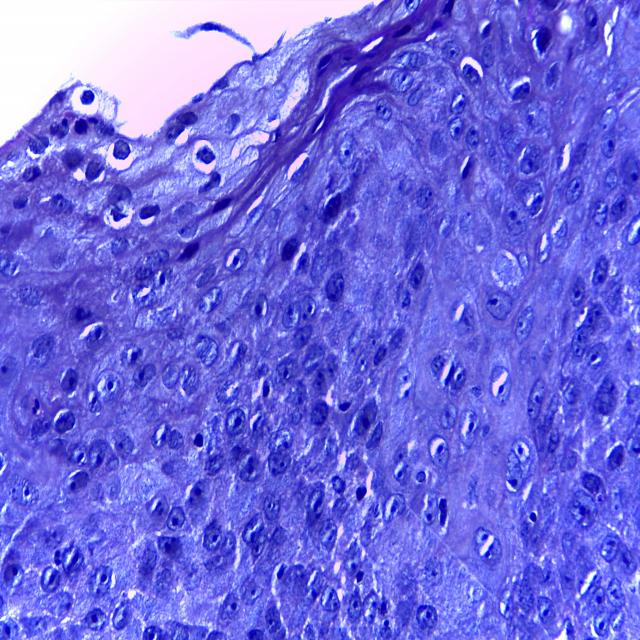Multiple Nucleol: (112, 598, 143, 636), (513, 305, 536, 345), (26, 333, 55, 360), (413, 182, 435, 211), (374, 95, 394, 126), (571, 331, 589, 361), (466, 123, 480, 155)
